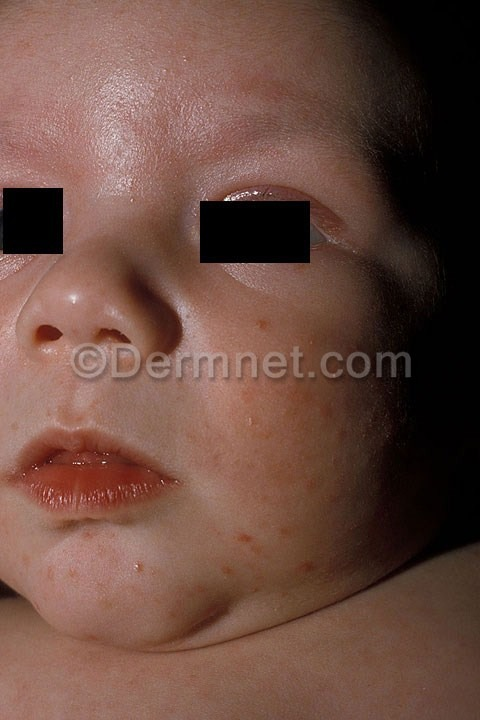Acne: (200, 292, 386, 630)
